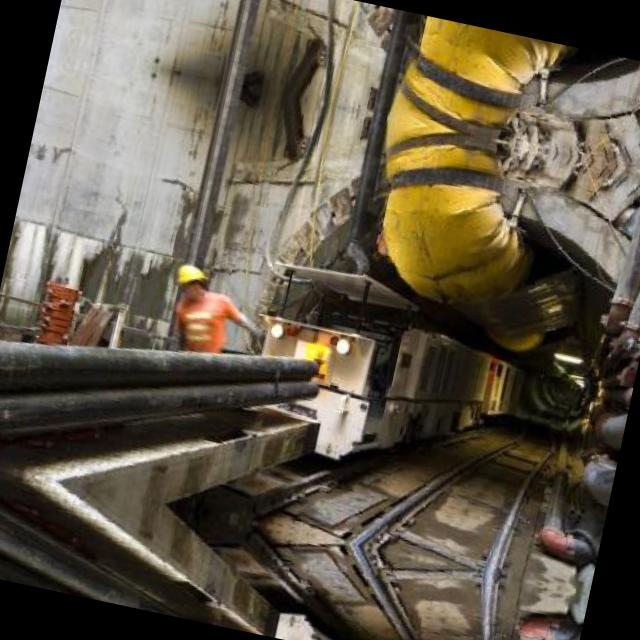helmet: (170, 258, 214, 300)
